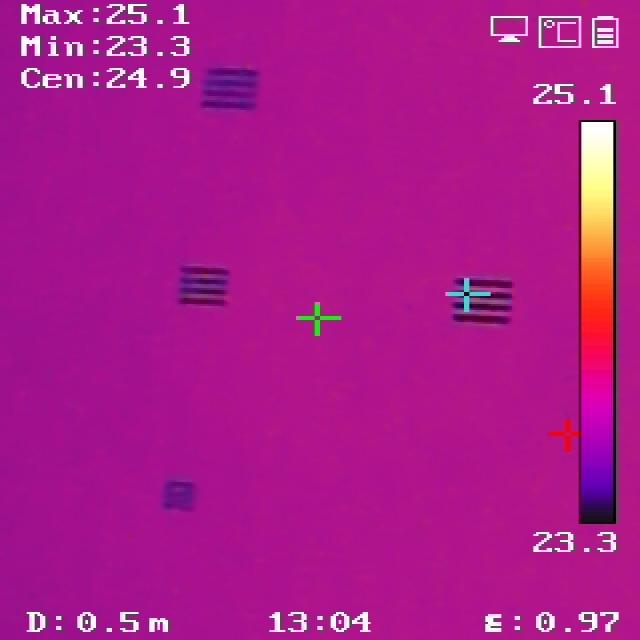Distinguishable 4-bar target: (449, 273, 514, 325), (180, 266, 229, 305), (160, 477, 193, 506)
threshold 4-bar target: (207, 66, 257, 109)
